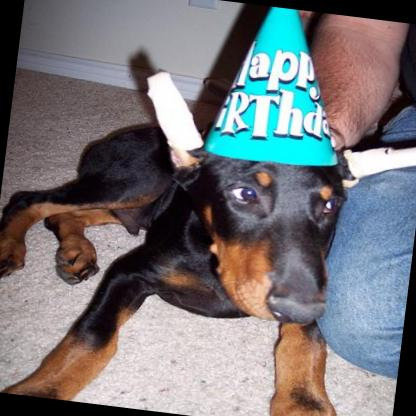Doberman: (0, 50, 416, 416)
